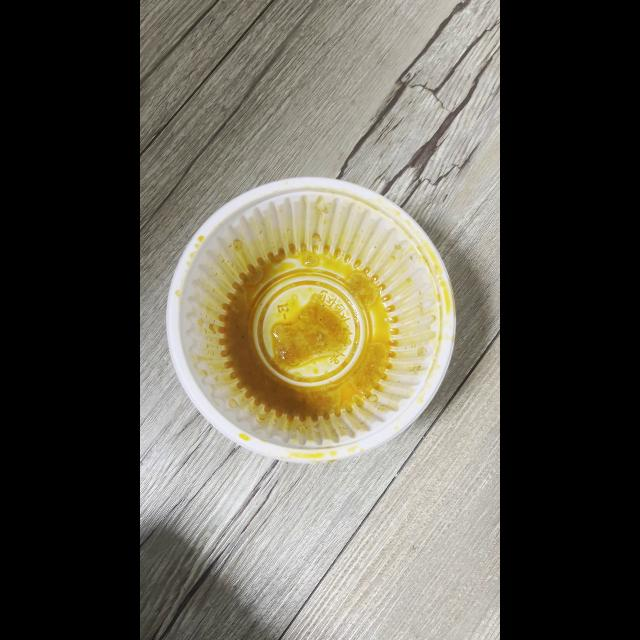dirty: (172, 199, 456, 461)
